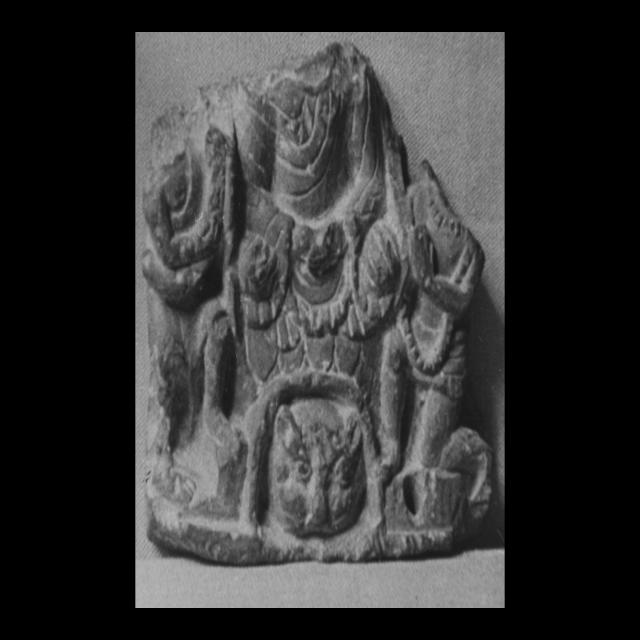buddha-sitting: (230, 44, 411, 384)
